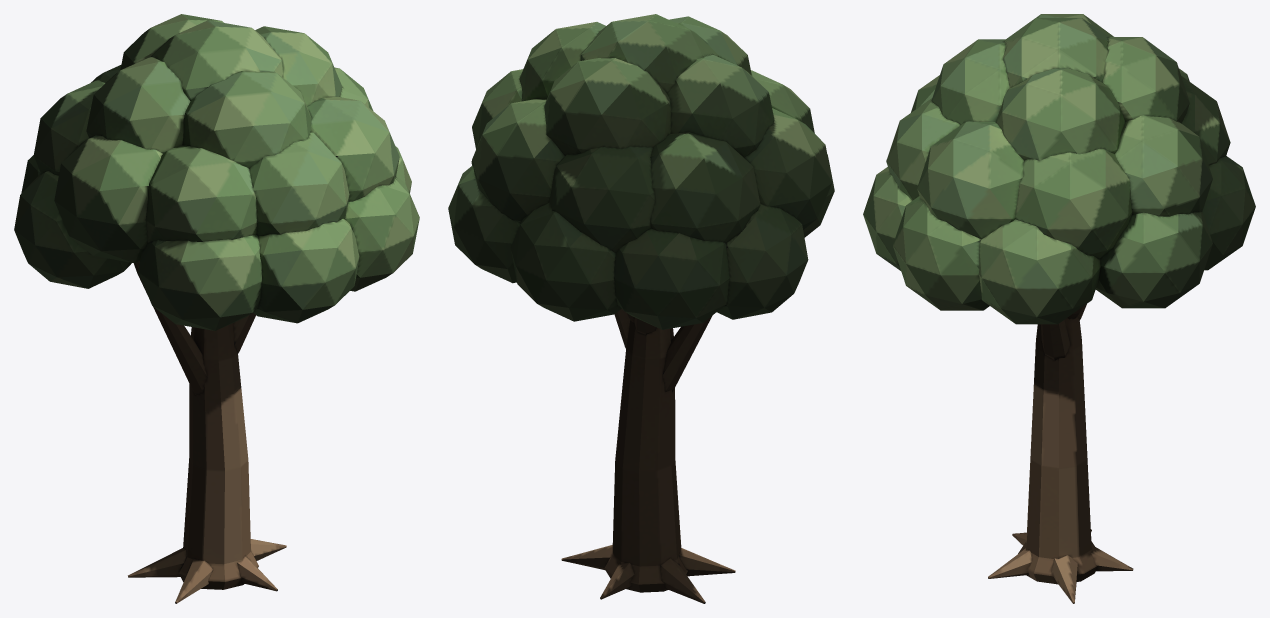
Rendered from 0-20261016-1900-ev058-r11-exterior-tree_baked.glb.
3 renders of one model, left to right at view 1: azimuth 30°, elevation 25°; view 2: azimuth 150°, elevation 25°; view 3: azimuth 270°, elevation 25°, orthographic.
Parts seen in each view (by area): view 1: SW_Exterior_Tree; view 2: SW_Exterior_Tree; view 3: SW_Exterior_Tree.
Part boxes in pixels (x1,y1,x2,y2): SW_Exterior_Tree: (14,14,419,603); SW_Exterior_Tree: (448,14,834,603); SW_Exterior_Tree: (863,14,1255,603).
Bounding box in the file's own units: 3.6 × 5.48 × 3.57.
1 material, 1 textured.
